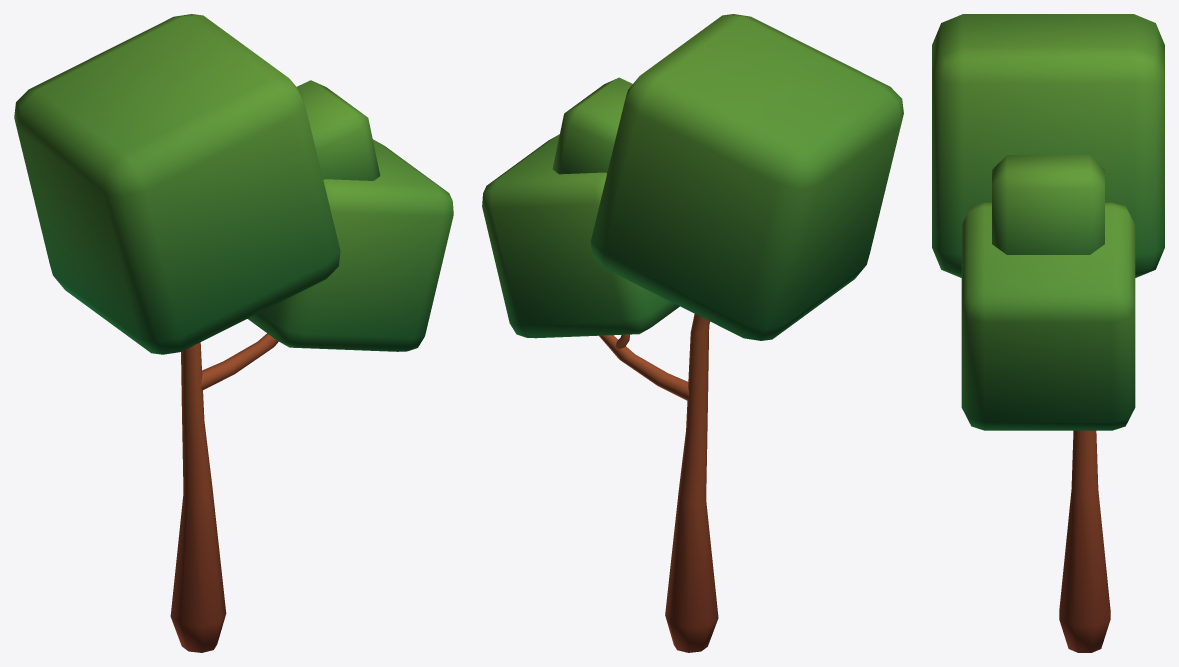
File: Tree_2_B.glb
3 renders of one model, left to right at view 1: azimuth 30°, elevation 25°; view 2: azimuth 150°, elevation 25°; view 3: azimuth 270°, elevation 25°, orthographic. The views are drawn at different scales.
Bounding box in the file's own units: 3.7 × 6.04 × 2.1.
